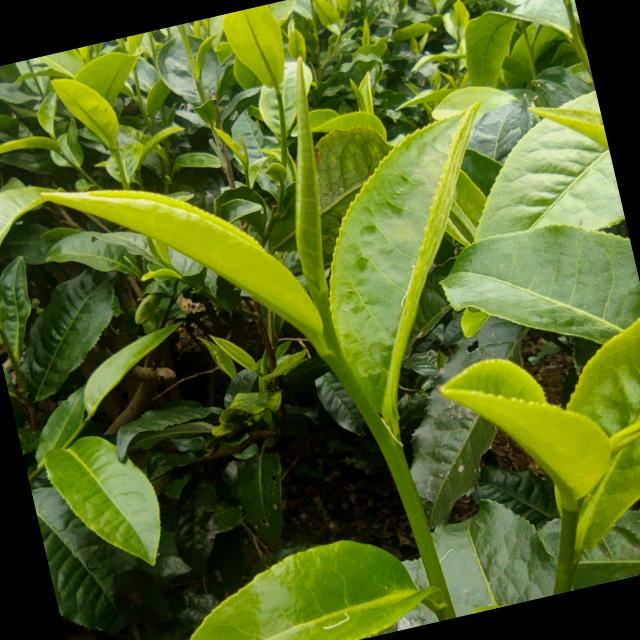Stem: (561, 510, 577, 539), (382, 437, 401, 460)
